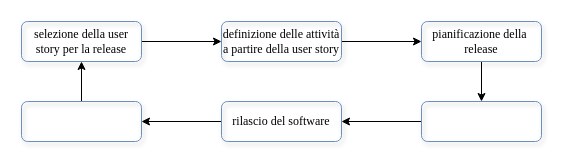
This 565x166 diagram has some shape labels left out. Here are the shapes that lost their labels. From the top down, the centre of each, then its label:
At (82,122): "valutazione del sistema".
At (482,122): "sviluppo/integrazione del software".
